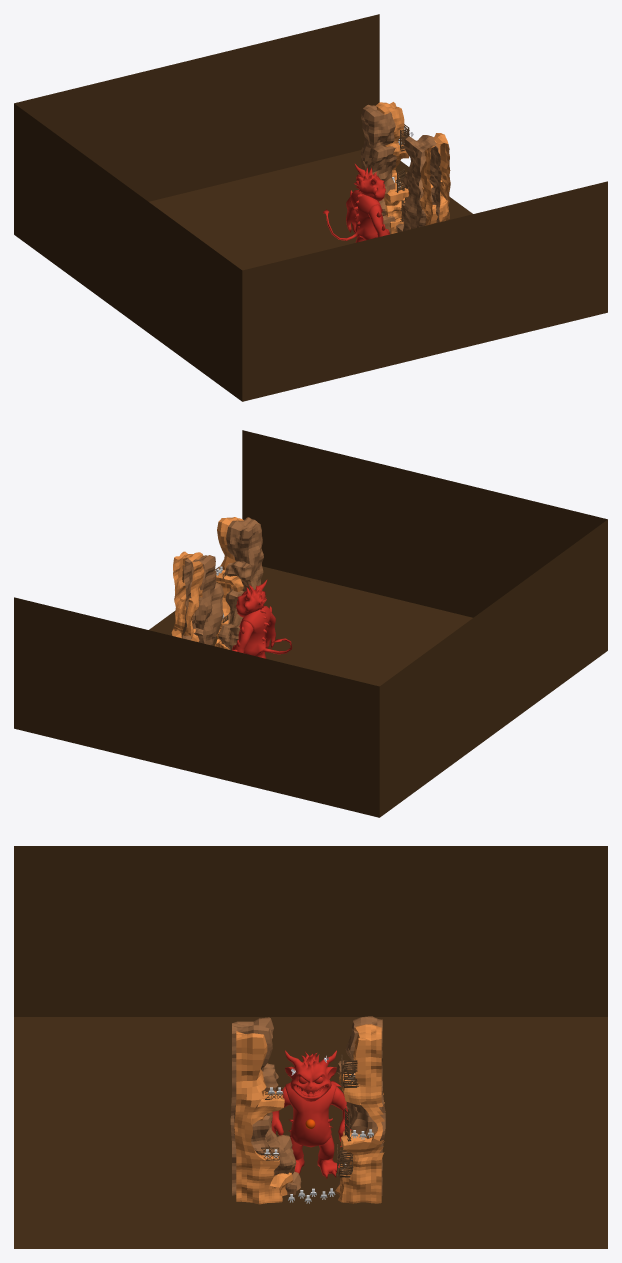
Rendered from set.fbx.
3 renders of one model, top to bottom at view 1: azimuth 30°, elevation 25°; view 2: azimuth 150°, elevation 25°; view 3: azimuth 270°, elevation 25°, orthographic. The views are drawn at different scales.
Parts seen in each view (by area): view 1: Cube, Cube.002, Cube.001, devil_body, devil_head, devil_arms; view 2: Cube, Cube.002, Cube.001, devil_body, devil_head, devil_arms; view 3: Cube, Cube.001, Cube.002, devil_body, devil_head, devil_legs, devil_arms.
Part boxes in pixels (left/top/right/bottom): Cube: left=14, top=14, right=607, bottom=401; Cube.002: left=360, top=104, right=441, bottom=234; Cube.001: left=376, top=102, right=450, bottom=233; devil_body: left=323, top=190, right=383, bottom=240; devil_head: left=354, top=164, right=385, bottom=201; devil_arms: left=346, top=190, right=389, bottom=237; Cube: left=14, top=430, right=607, bottom=817; Cube.002: left=181, top=517, right=263, bottom=650; Cube.001: left=171, top=517, right=243, bottom=649; devil_body: left=238, top=606, right=292, bottom=656; devil_head: left=236, top=580, right=266, bottom=617; devil_arms: left=232, top=606, right=275, bottom=653; Cube: left=14, top=846, right=607, bottom=1248; Cube.001: left=234, top=1024, right=385, bottom=1204; Cube.002: left=230, top=1016, right=385, bottom=1195; devil_body: left=285, top=1080, right=341, bottom=1147; devil_head: left=285, top=1050, right=336, bottom=1101; devil_legs: left=290, top=1135, right=339, bottom=1178; devil_arms: left=271, top=1086, right=351, bottom=1146.
Size of the model in its own units: 874 by 331 by 945.
